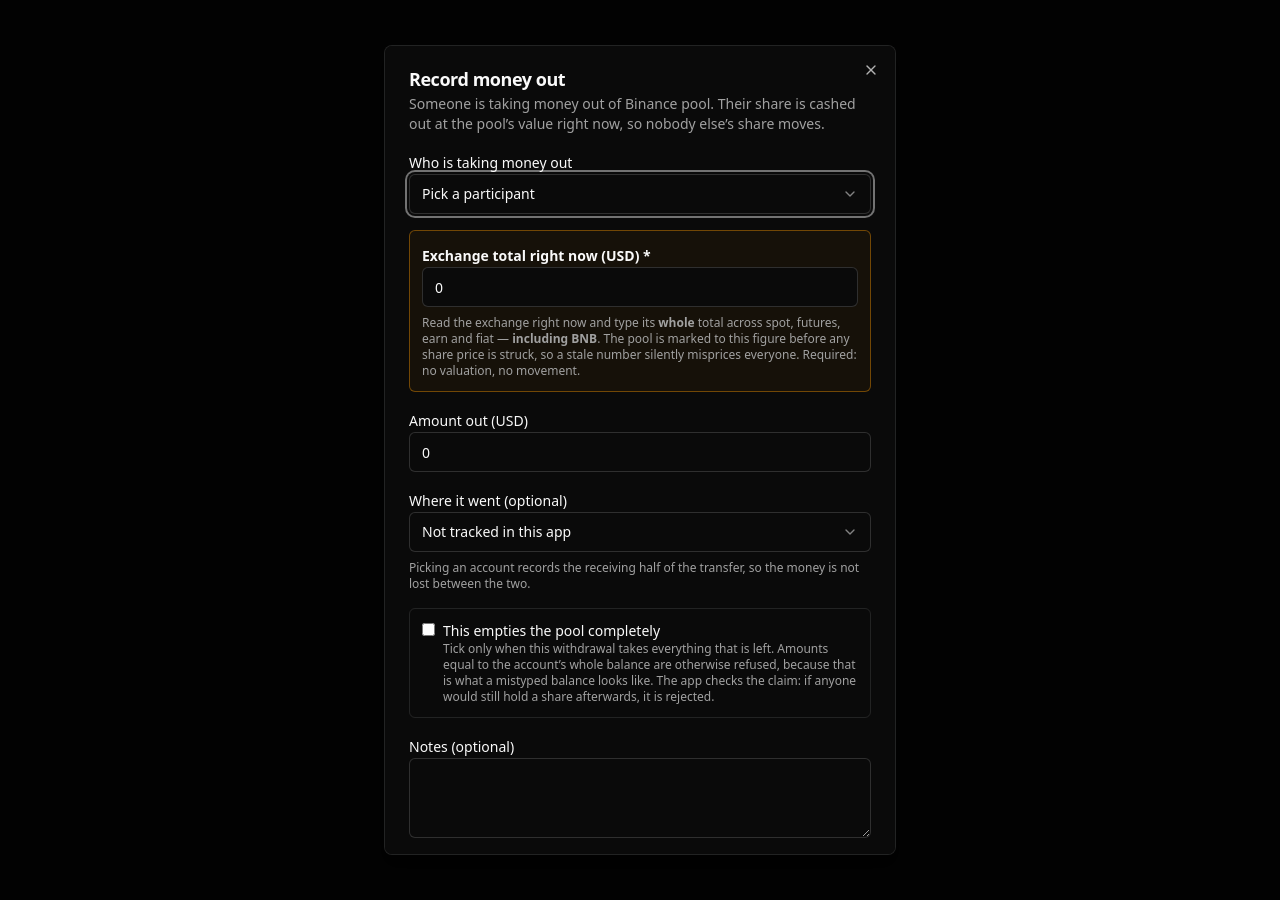
Test: a guard rejection lands inline, next to the form › redemption
Click the dropdown with test id "redemption-participant-select": (478, 194) [409, 174, 871, 214]
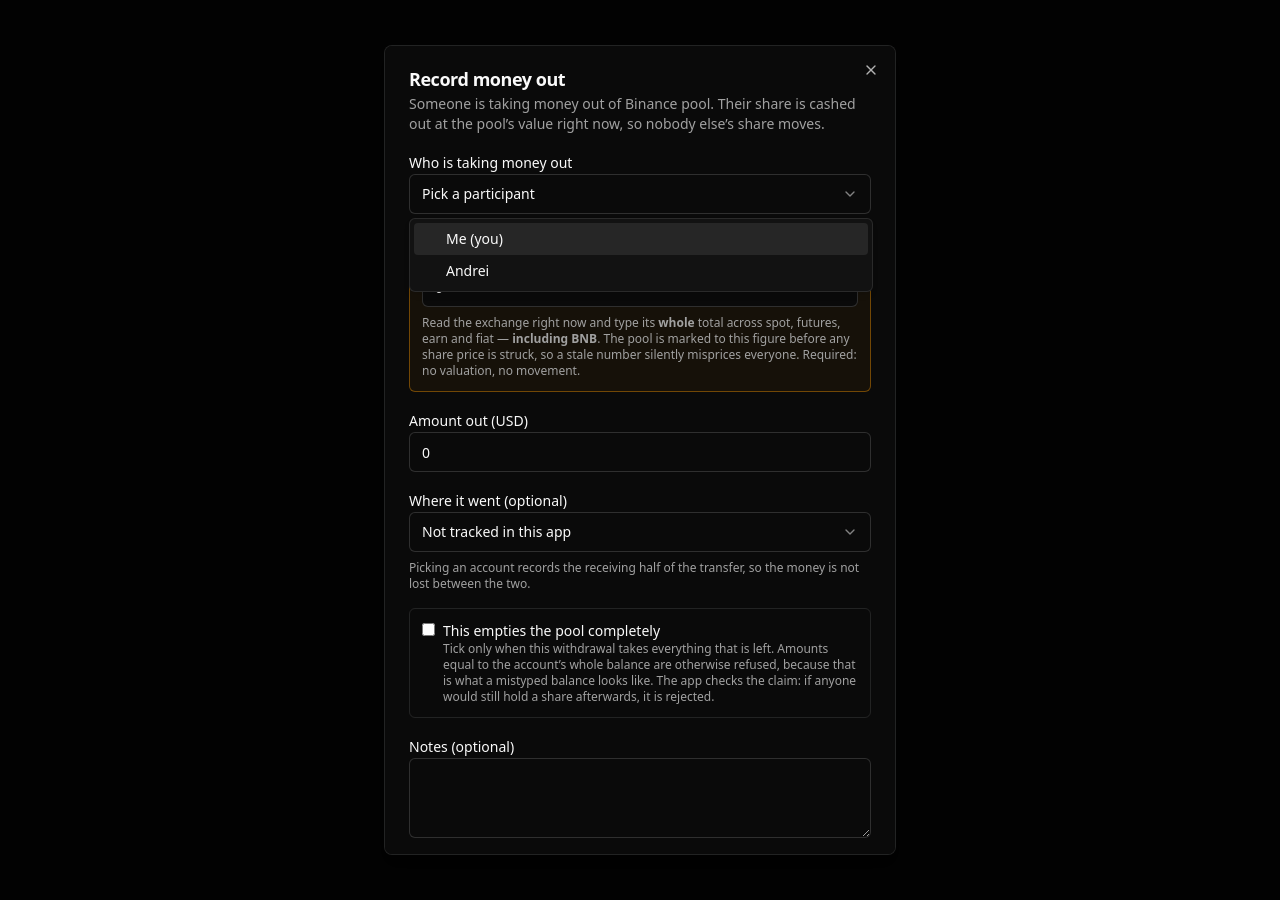
Click the option "Andrei": (468, 270) [446, 261, 489, 280]
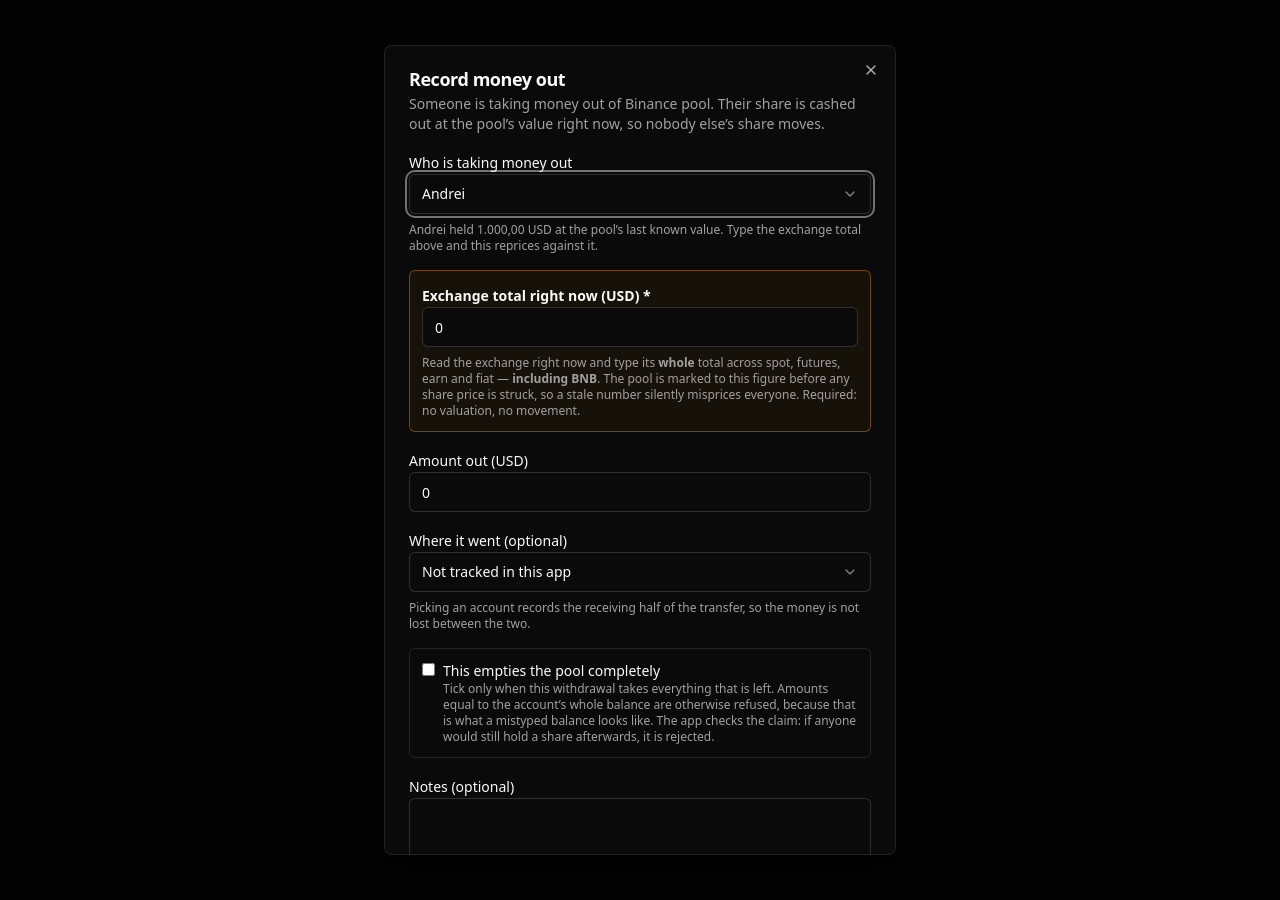
Replace the text in the number field with test id "redemption-pool-value-input" with "2500": (640, 327) [422, 307, 858, 347]
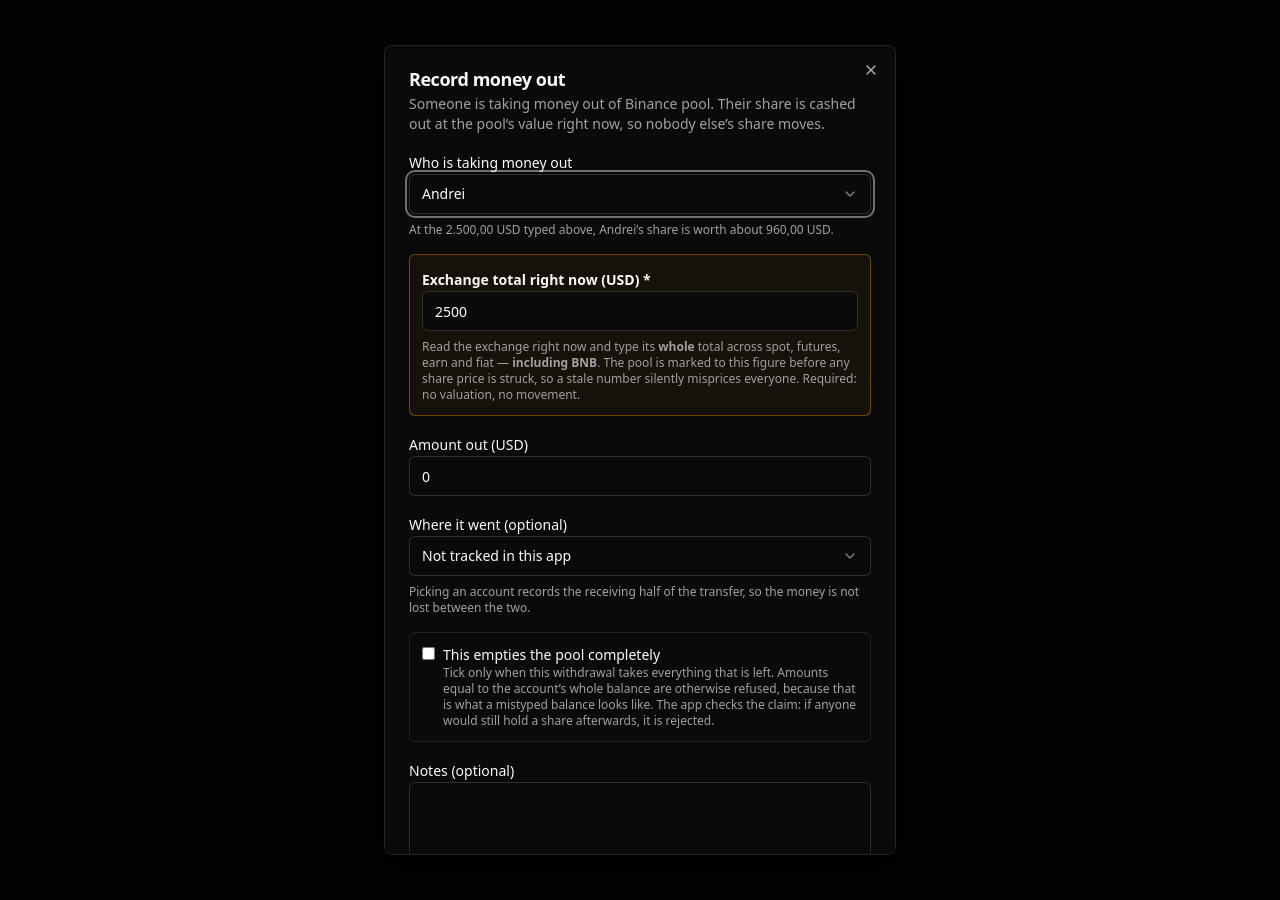
Replace the text in the number field with test id "redemption-cash-input" with "9999": (640, 476) [409, 456, 871, 496]
(page scrolled)
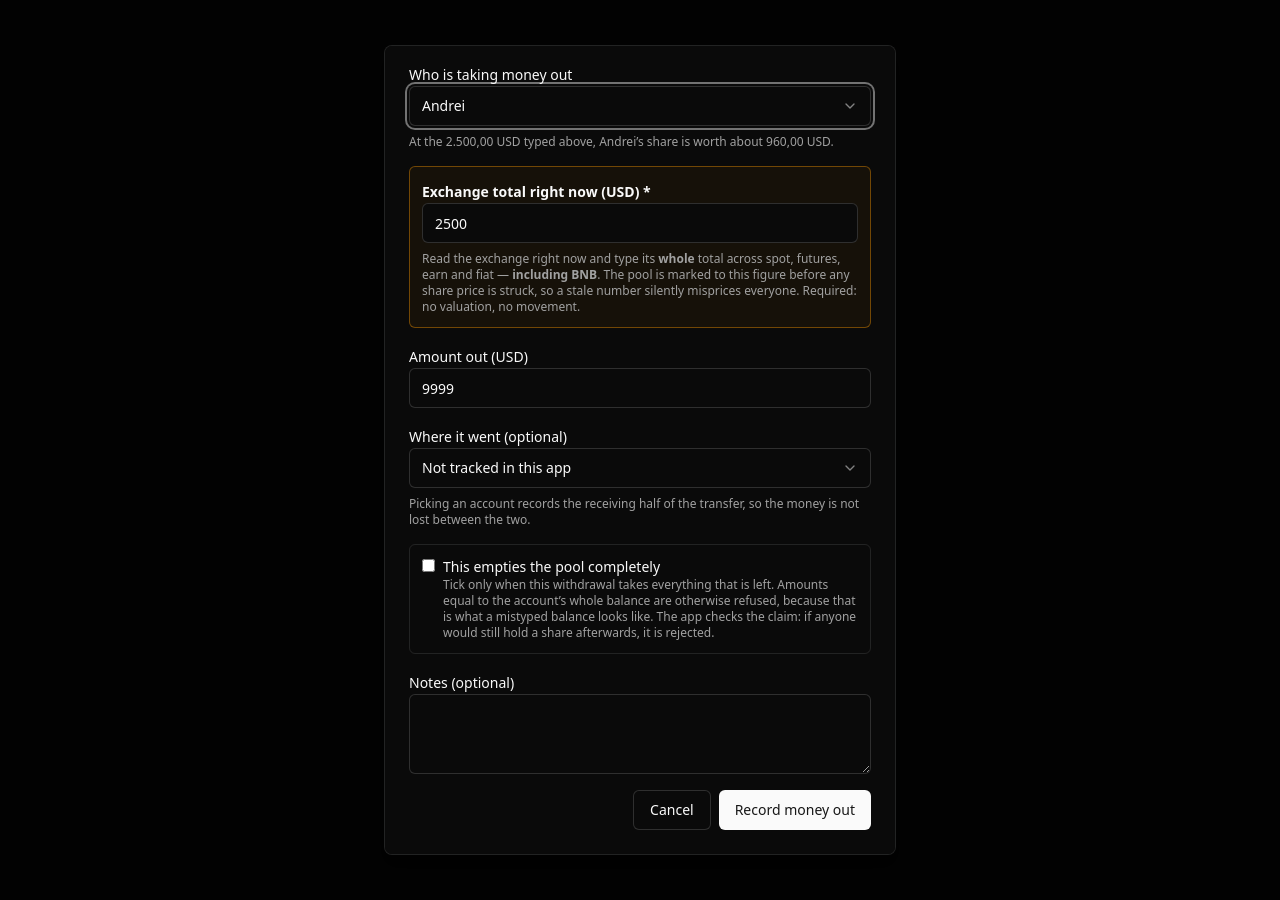
Click the button with test id "redemption-submit-button": (795, 810) [719, 790, 871, 830]
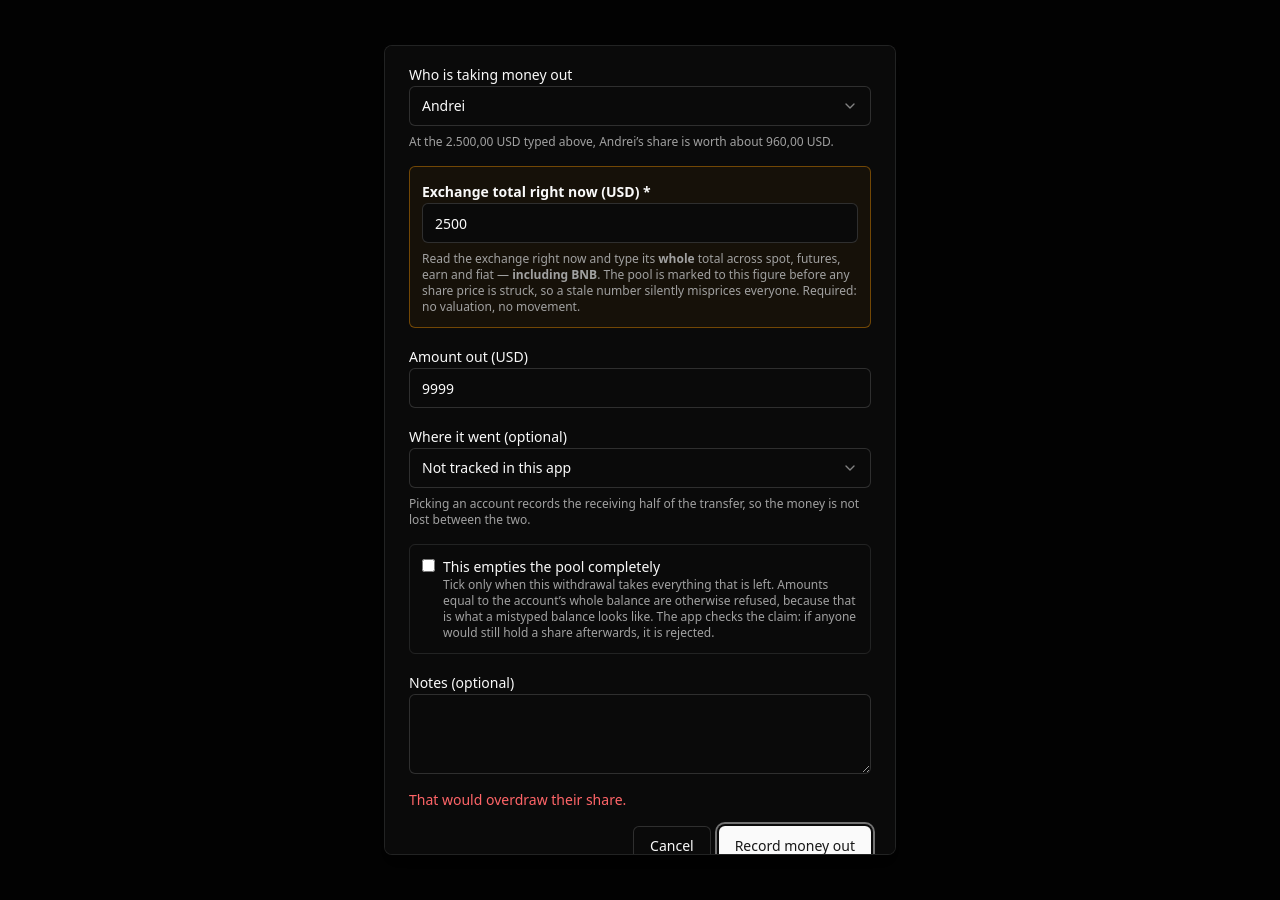
Check: the message with test id "record-redemption-error" reads "That would overdraw their share.", box [409, 790, 626, 809]
